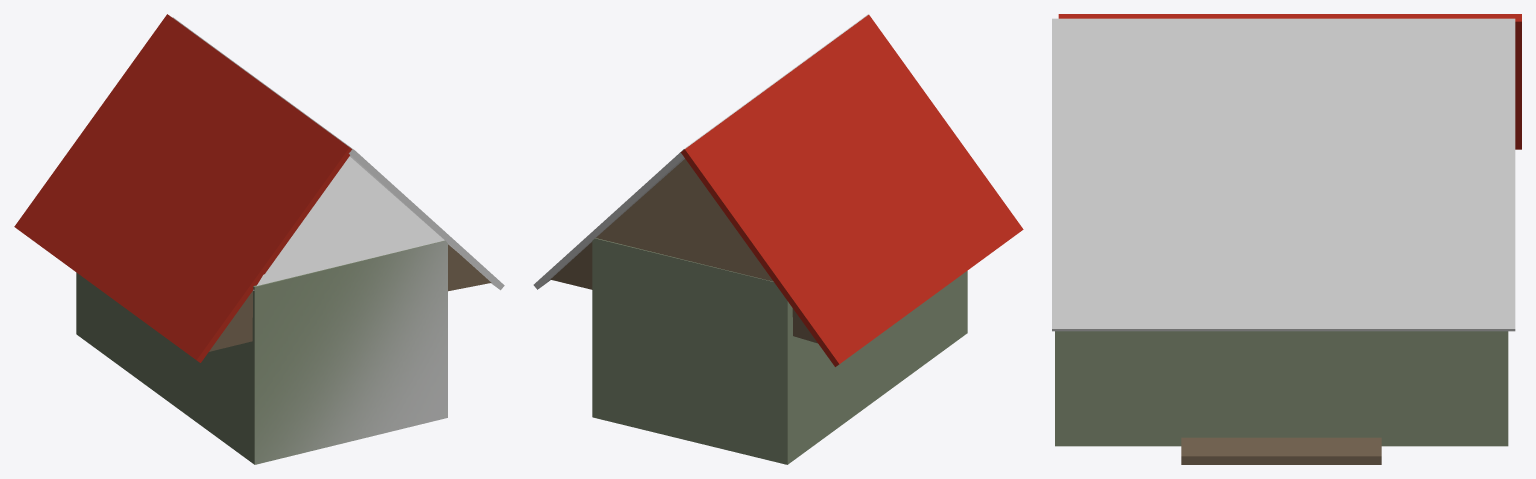
The model's file is dombohatera.glb.
The picture shows the model from 3 angles, left to right: view 1: azimuth 30°, elevation 25°; view 2: azimuth 150°, elevation 25°; view 3: azimuth 270°, elevation 25°; orthographic projection. The views are drawn at different scales.
Parts seen in each view (by area): view 1: Cube.007, Cube, Cube.011, Cube.005, Cube.008, Cube.004; view 2: Cube.007, Cube, Cube.010, Cube.005, Cube.004; view 3: Cube.005, Cube, Cube.001, Cube.007.
Boxes of the visible parts, <box> form: Cube.007: <box>14,14,351,362</box>; Cube: <box>76,240,447,464</box>; Cube.011: <box>253,156,444,290</box>; Cube.005: <box>173,17,504,290</box>; Cube.008: <box>209,291,252,351</box>; Cube.004: <box>448,244,491,291</box>; Cube.007: <box>680,15,1023,366</box>; Cube: <box>592,238,967,464</box>; Cube.010: <box>596,159,773,281</box>; Cube.005: <box>533,14,871,289</box>; Cube.004: <box>550,242,592,289</box>; Cube.005: <box>1052,18,1515,331</box>; Cube: <box>1055,331,1508,446</box>; Cube.001: <box>1181,437,1381,464</box>; Cube.007: <box>1058,14,1521,149</box>.
Size of the model in its own units: 13.23 by 12.12 by 13.86.
Materials: 7 (7 with a texture image).
